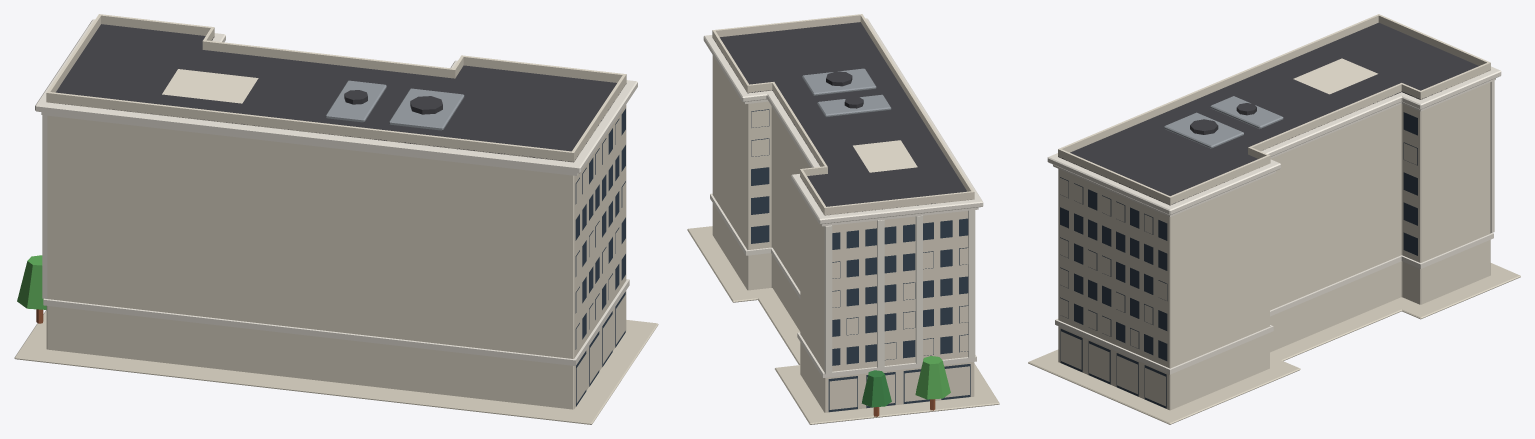
Rendered from 735-market-street.glb.
3 views of the same model, side by side, from view 1: azimuth 30°, elevation 25°; view 2: azimuth 150°, elevation 25°; view 3: azimuth 270°, elevation 25° (orthographic). The views are drawn at different scales.
Parts seen in each view (by area): view 1: 735-market-street_body, 735-market-street_night_glow; view 2: 735-market-street_body, 735-market-street_night_glow; view 3: 735-market-street_body, 735-market-street_night_glow.
Part boxes in pixels (box(x1,y1,x2,y2)): 735-market-street_body: box(14, 14, 658, 424); 735-market-street_night_glow: box(162, 69, 626, 403); 735-market-street_body: box(687, 14, 999, 424); 735-market-street_night_glow: box(751, 110, 969, 409); 735-market-street_body: box(1028, 14, 1520, 424); 735-market-street_night_glow: box(1060, 58, 1417, 406).
Size of the model in its own units: 57.27 by 27.4 by 57.
